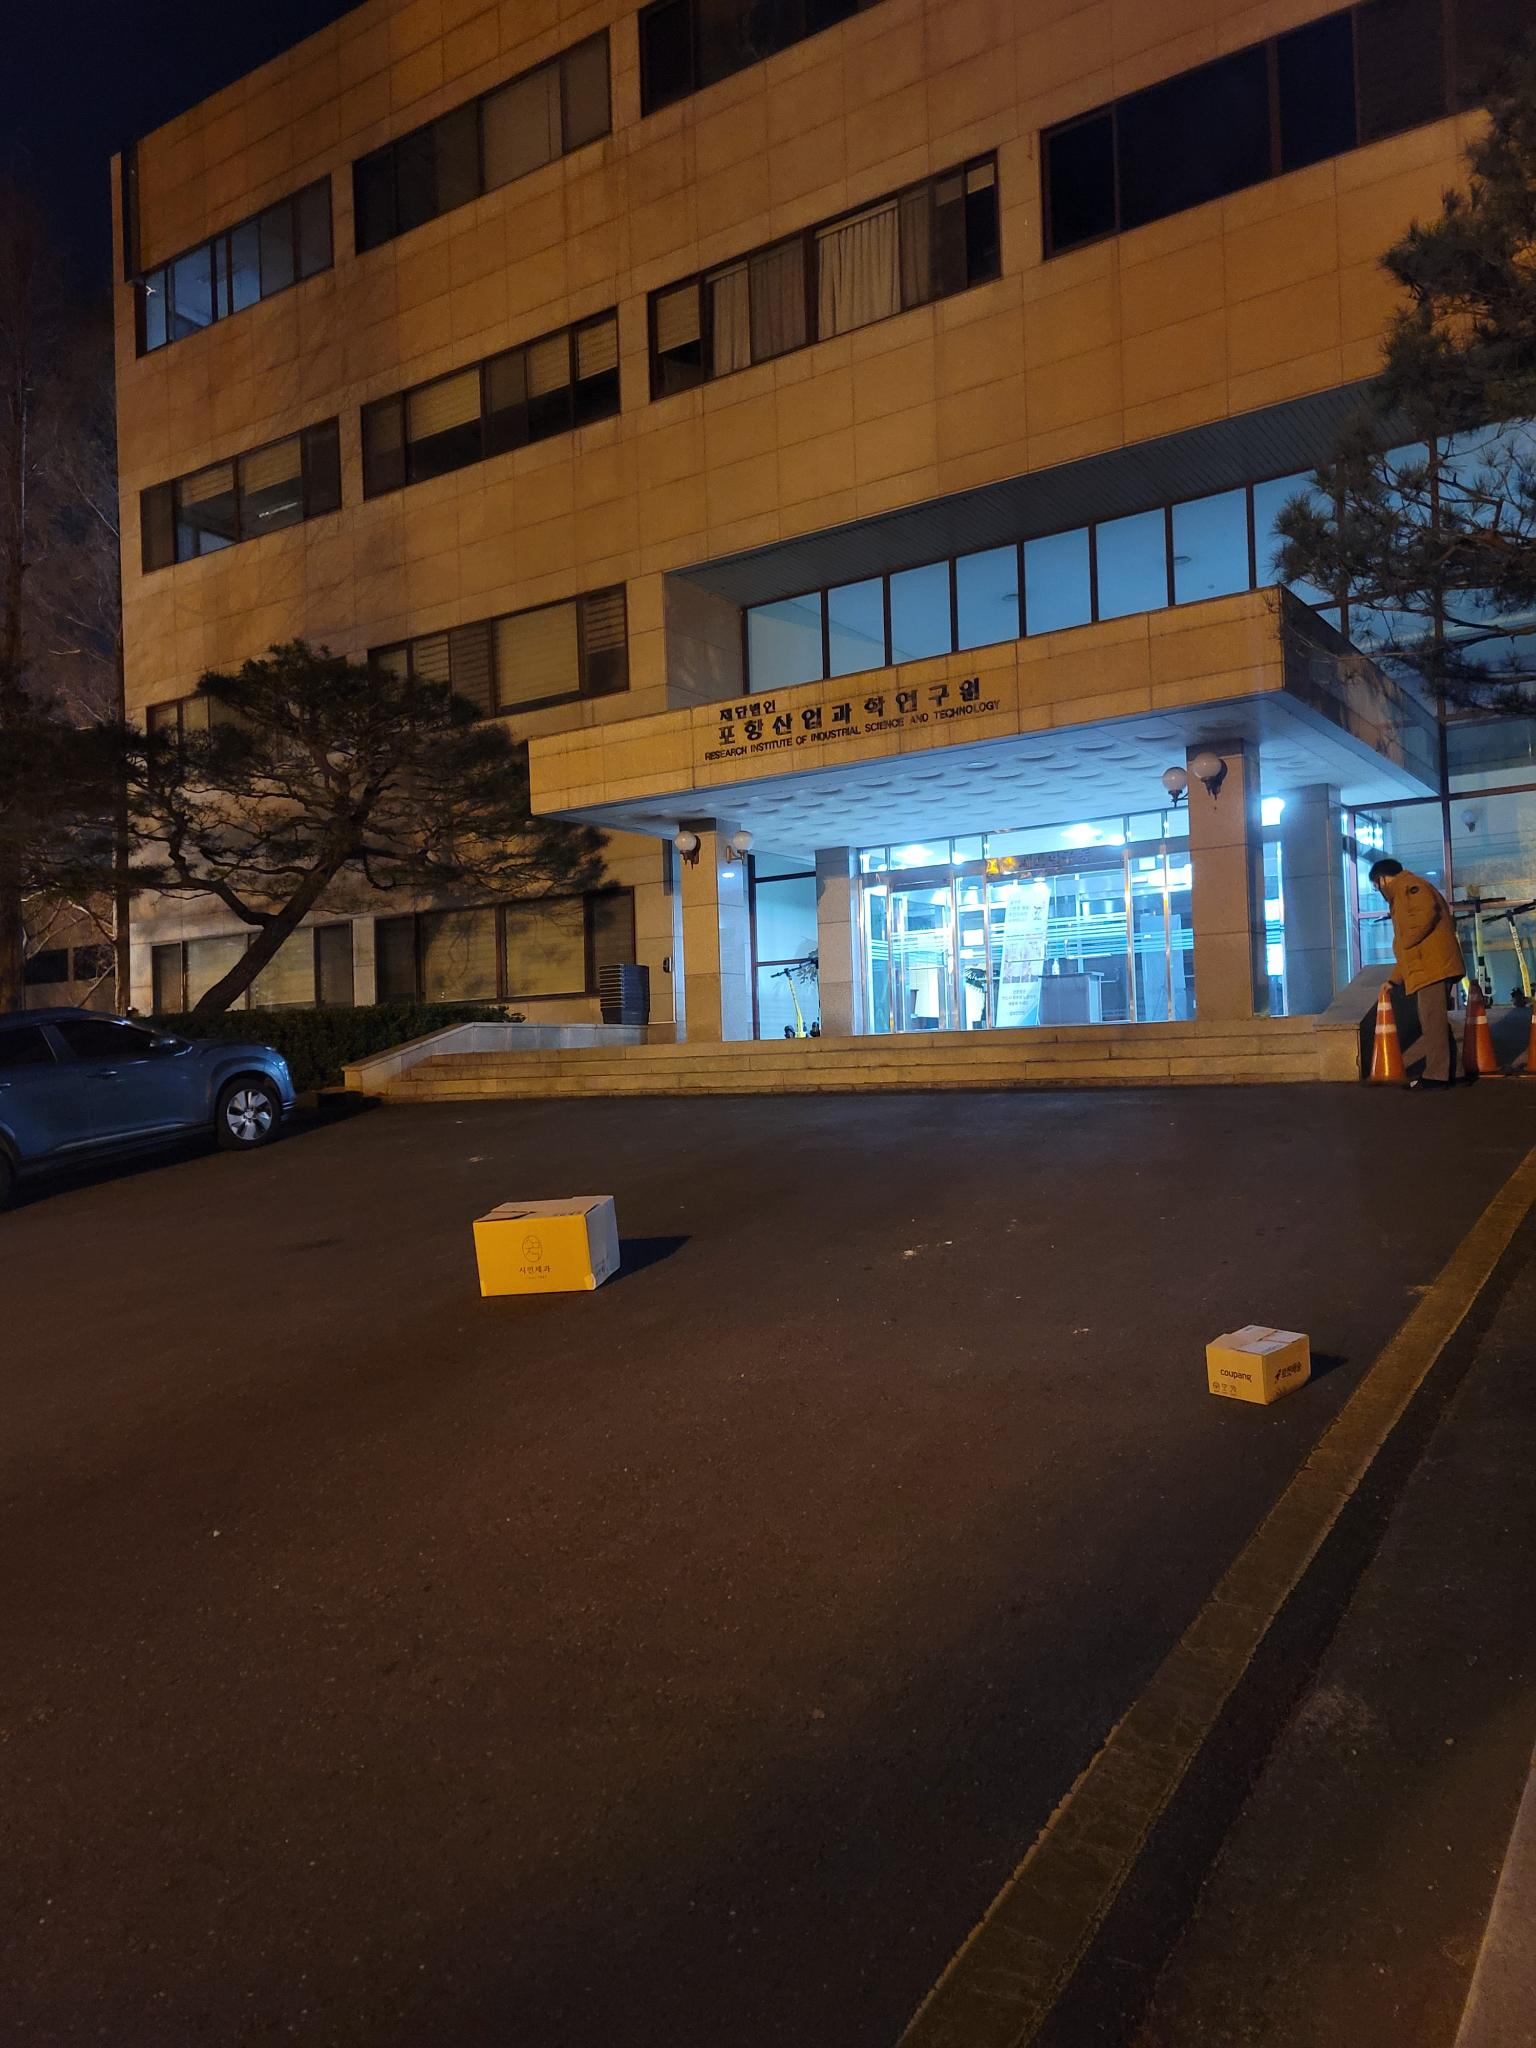Box: (461, 1176, 637, 1319), (1194, 1324, 1328, 1405)
